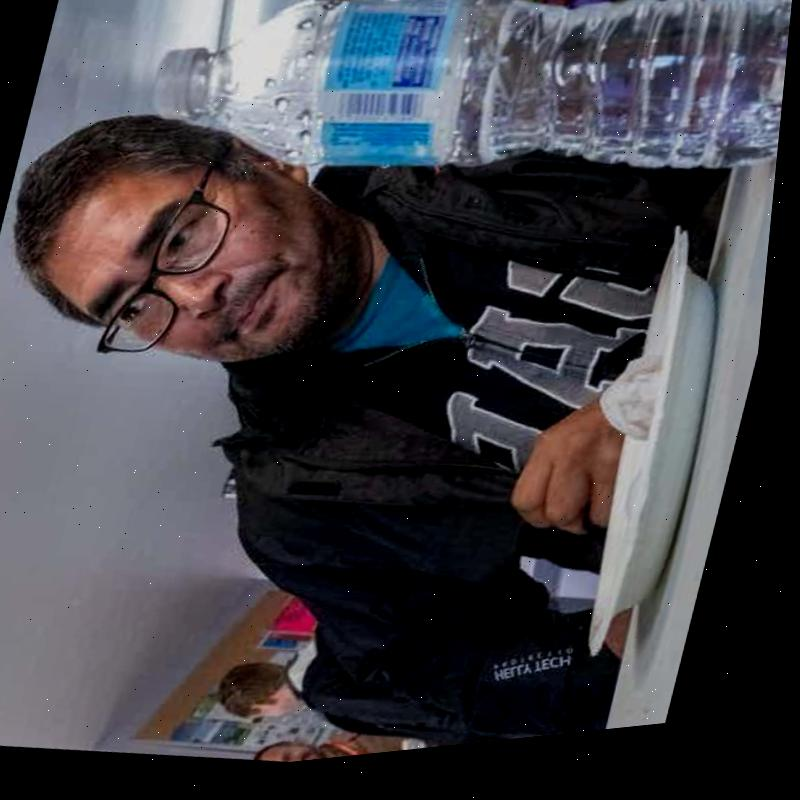botella: (128, 0, 800, 266)
